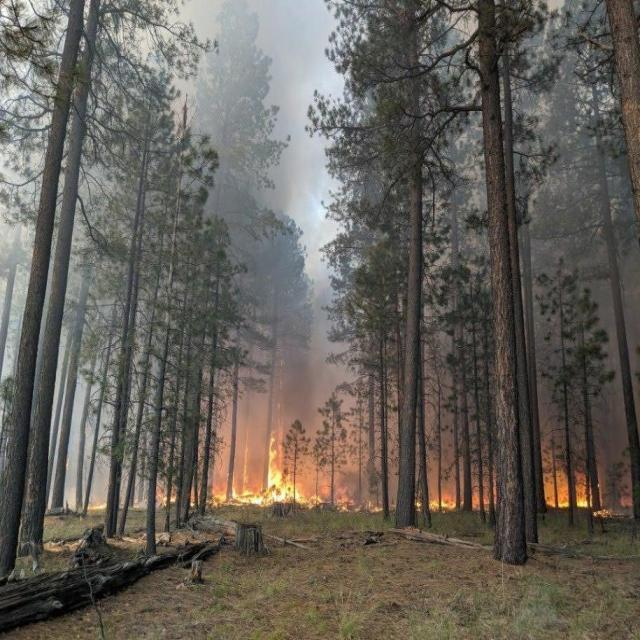Fire: (210, 432, 323, 512), (577, 495, 615, 518), (429, 488, 457, 514), (558, 499, 570, 509)
Smoke: (51, 1, 397, 512), (528, 227, 640, 489), (424, 359, 492, 491)
